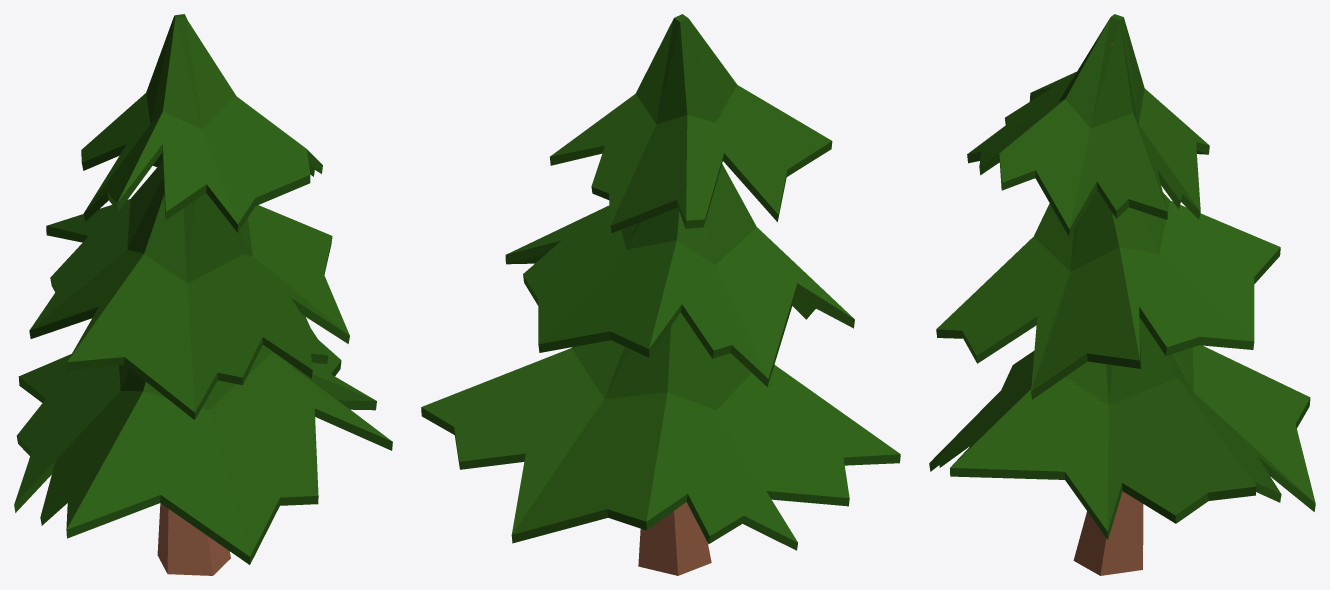
The model's file is tree_4.fbx.
3 views of the same model, side by side, from view 1: azimuth 30°, elevation 25°; view 2: azimuth 150°, elevation 25°; view 3: azimuth 270°, elevation 25° (orthographic).
Parts seen in each view (by area): view 1: tree_4; view 2: tree_4; view 3: tree_4.
Boxes of the visible parts, x1,y1,x2,y2 form: tree_4: (14, 14, 392, 575); tree_4: (421, 14, 900, 575); tree_4: (929, 14, 1315, 575).
Bounding box in the file's own units: 251 × 366 × 238.
